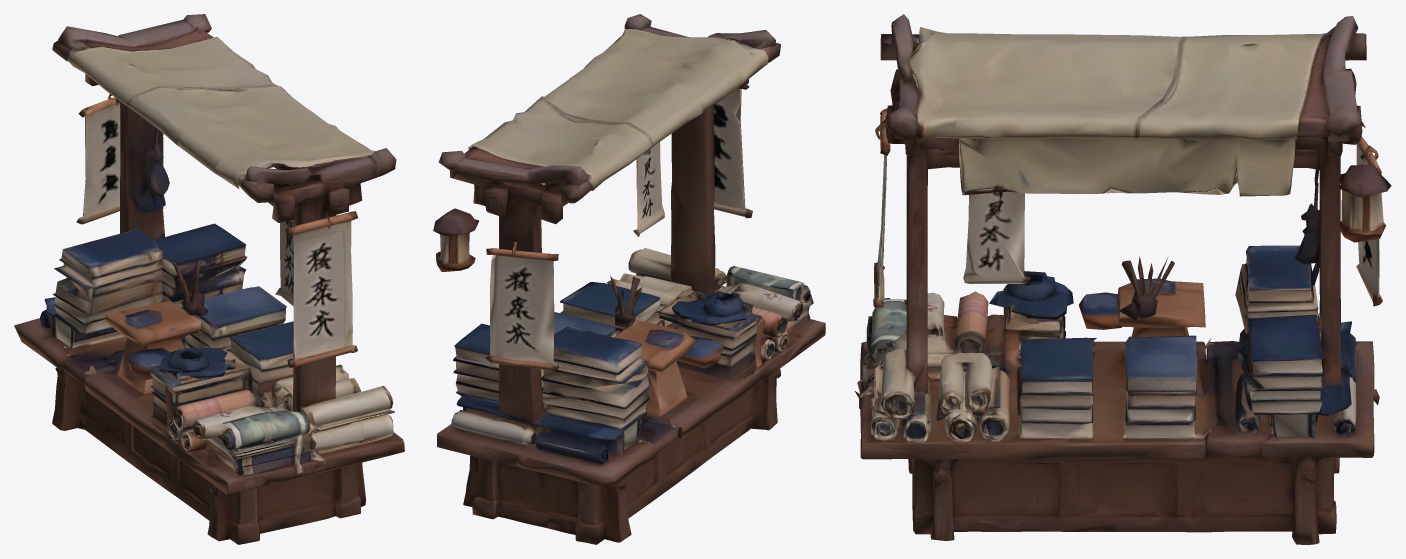
Rendered from stall-books.glb.
3 views of the same model, side by side, from view 1: azimuth 30°, elevation 25°; view 2: azimuth 150°, elevation 25°; view 3: azimuth 270°, elevation 25° (orthographic). The views are drawn at different scales.
Visible parts, largest first — view 1: tripo_node_08e7bab8-45b2-49fb-b8fc-0024c37eea77; view 2: tripo_node_08e7bab8-45b2-49fb-b8fc-0024c37eea77; view 3: tripo_node_08e7bab8-45b2-49fb-b8fc-0024c37eea77.
Part boxes in pixels (x1,y1,x2,y2): tripo_node_08e7bab8-45b2-49fb-b8fc-0024c37eea77: [14, 14, 404, 544]; tripo_node_08e7bab8-45b2-49fb-b8fc-0024c37eea77: [433, 14, 825, 544]; tripo_node_08e7bab8-45b2-49fb-b8fc-0024c37eea77: [855, 14, 1391, 544].
Bounding box in the file's own units: 0.4795 × 0.9324 × 1.
1 material, 1 textured.
